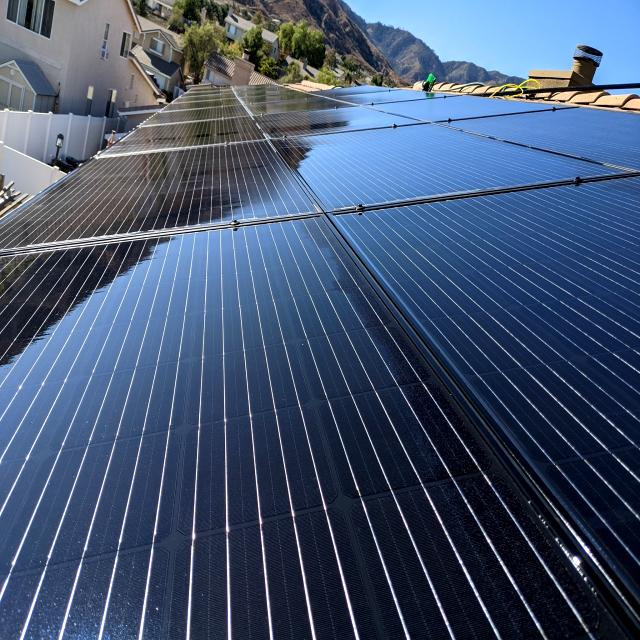crack: (296, 348, 483, 482), (418, 284, 613, 408), (481, 208, 640, 340), (191, 486, 378, 596), (448, 469, 582, 614), (311, 499, 468, 618), (376, 220, 514, 306), (56, 430, 170, 522), (112, 374, 228, 462), (214, 357, 340, 437), (232, 247, 354, 329), (242, 387, 355, 472), (40, 300, 144, 384), (156, 244, 246, 316), (80, 172, 184, 225), (340, 140, 439, 183), (181, 165, 259, 210)
